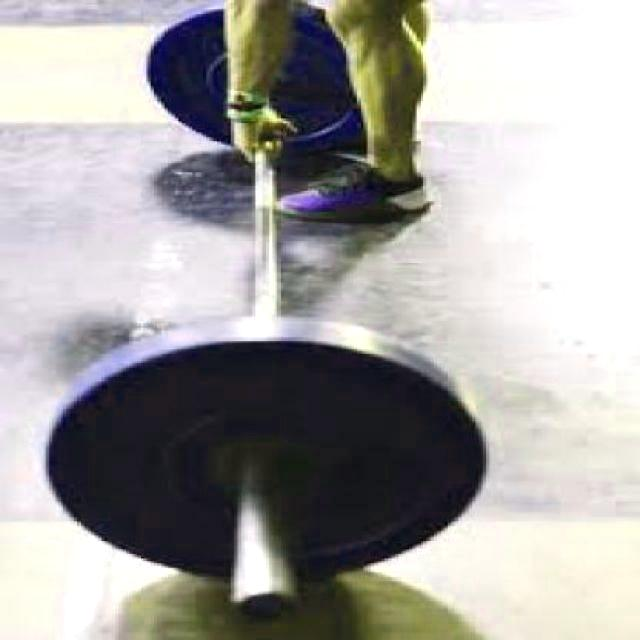barbell: (29, 301, 495, 627)
